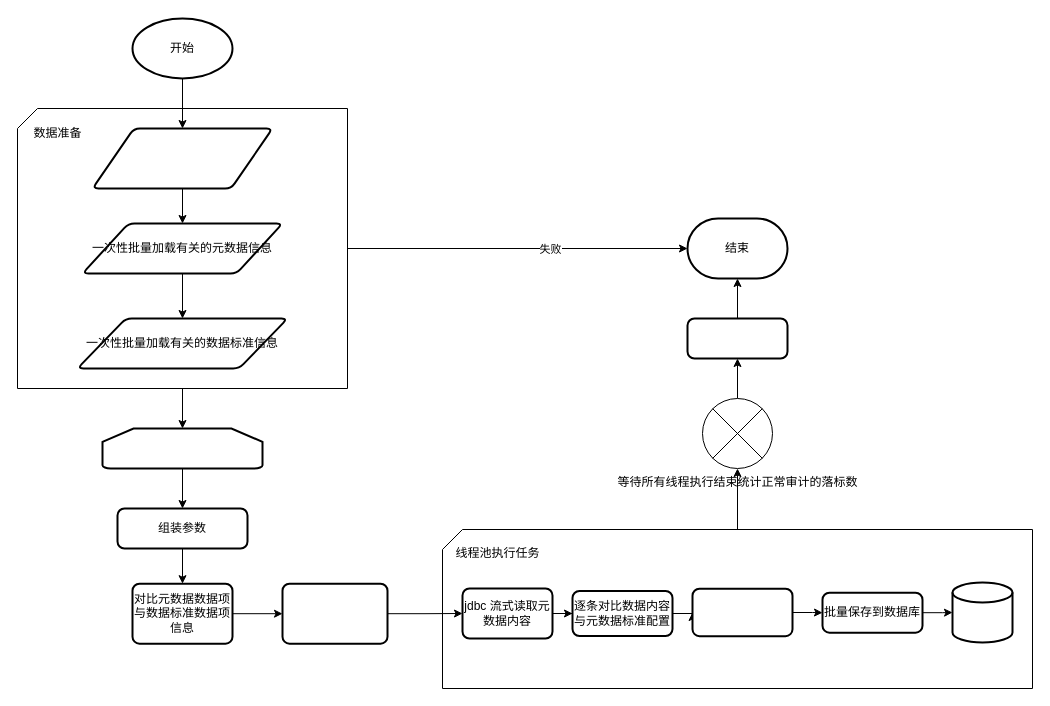
The diagram is 1050 pixels wide and 706 high, and some of its shapes have lost their labels. The centre of each missing label's shape, as x and y in pixels:
foreach(落标配置列表）: (x=182, y=448)
一次性批量加载所有落标配置: (x=182, y=158)
对比结果存入内存实体集: (x=742, y=612)
将统计结果写入日志: (x=737, y=338)
组装异步任务: (x=334, y=613)
